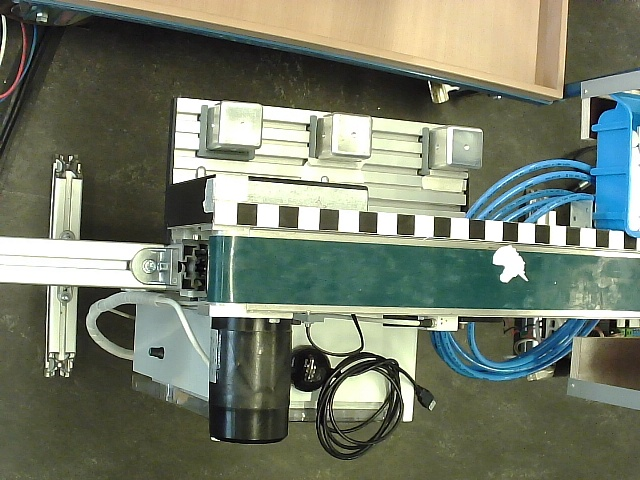unicorn: (492, 244, 529, 284)
